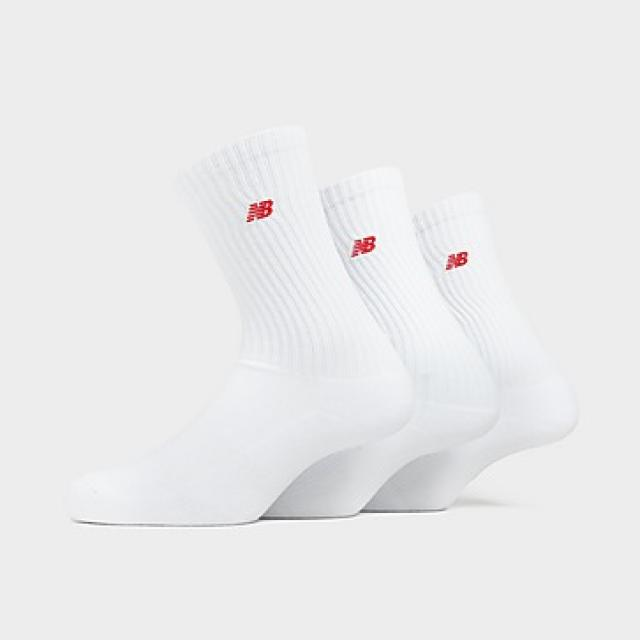sock: (67, 124, 413, 526), (259, 164, 499, 517), (360, 189, 578, 513)
